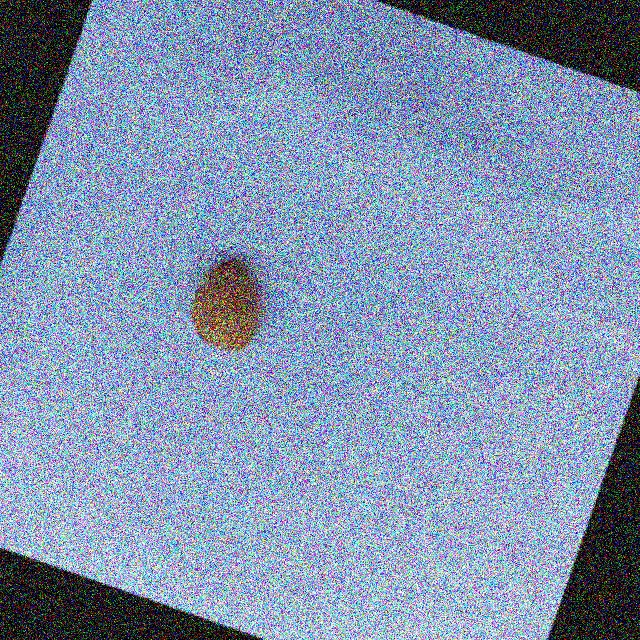grade2: (177, 246, 284, 363)
